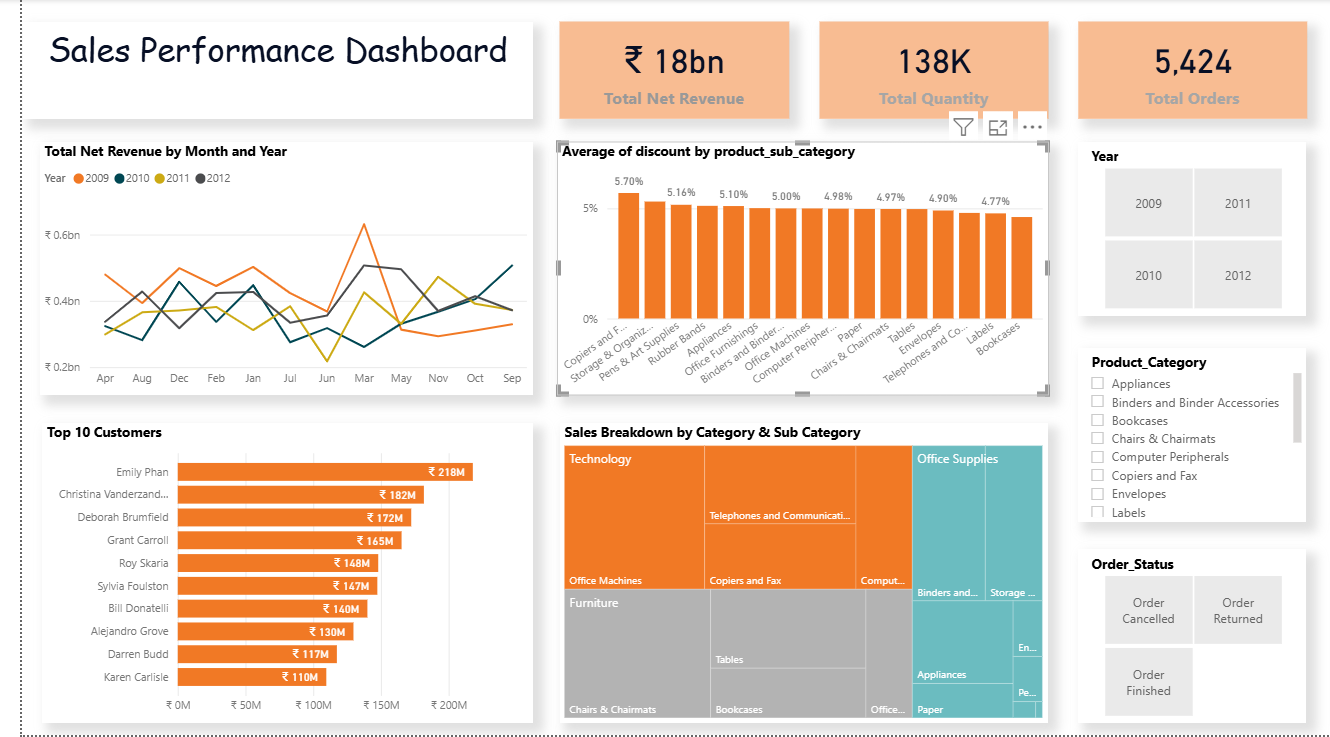

The page's visual inventory and layout, read from the dashboard file:
{"tool":"powerbi","page":{"name":"Page 1","canvas":[1280,720],"ordinal":0},"visuals":[{"type":"card","fields":{"Values":["cleaned_sales_data.Total Net Revenue"]},"box":[526.1,22,224.8,95.5],"z":0},{"type":"card","fields":{"Values":["cleaned_sales_data.Total Orders"]},"box":[1033.1,22,224,95.5],"z":1000},{"type":"card","fields":{"Values":["cleaned_sales_data.Total Quantity"]},"box":[780.3,22,224,95.5],"z":2000},{"type":"lineChart","title":"Total Net Revenue by Month and Year","fields":{"Y":["cleaned_sales_data.Total Net Revenue"],"Series":["Calendar.Year"],"Category":["Calendar.Month"]},"box":[17.6,139.6,482,248.4],"z":3000},{"type":"columnChart","fields":{"Category":["cleaned_sales_data.product_sub_category"],"Y":["Avg(cleaned_sales_data.discount)"]},"box":[523.2,139.6,480.6,248.4],"z":4000},{"type":"clusteredBarChart","title":"Top 10 Customers","fields":{"Category":["cleaned_sales_data.customer"],"Y":["cleaned_sales_data.Total Net Revenue"]},"box":[19.1,414.4,480.6,293.9],"z":5000},{"type":"slicer","fields":{"Values":["Calendar.Year"]},"box":[1033.1,139.6,223.4,170.5],"z":6000},{"type":"treemap","title":"Sales Breakdown by Category & Sub Category","fields":{"Group":["cleaned_sales_data.product_category"],"Details":["cleaned_sales_data.product_sub_category"],"Values":["cleaned_sales_data.Total Sales"]},"box":[526.1,414.4,477.6,293.9],"z":7000},{"type":"slicer","fields":{"Values":["cleaned_sales_data.product_sub_category"]},"box":[1033.1,340.9,223.4,170.5],"z":8000},{"type":"textbox","box":[1.5,22,498.2,95.5],"z":9000},{"type":"slicer","fields":{"Values":["cleaned_sales_data.order_status"]},"box":[1033.1,537.9,223.4,170.5],"z":10000}]}

Visuals, with their boxes in screenshot pixels (x1, y1, x2, y2), scaled from the page's 1280x720 canvas onto the 1330x737 screenshot:
card - cleaned_sales_data.Total Net Revenue: (547, 23, 780, 120)
card - cleaned_sales_data.Total Orders: (1073, 23, 1306, 120)
card - cleaned_sales_data.Total Quantity: (811, 23, 1044, 120)
"Total Net Revenue by Month and Year" lineChart: (18, 143, 519, 397)
columnChart - cleaned_sales_data.product_sub_category x Avg(cleaned_sales_data.discount): (544, 143, 1043, 397)
"Top 10 Customers" clusteredBarChart: (20, 424, 519, 725)
slicer - Calendar.Year: (1073, 143, 1306, 317)
"Sales Breakdown by Category & Sub Category" treemap: (547, 424, 1043, 725)
slicer - cleaned_sales_data.product_sub_category: (1073, 349, 1306, 523)
textbox: (2, 23, 519, 120)
slicer - cleaned_sales_data.order_status: (1073, 551, 1306, 725)
